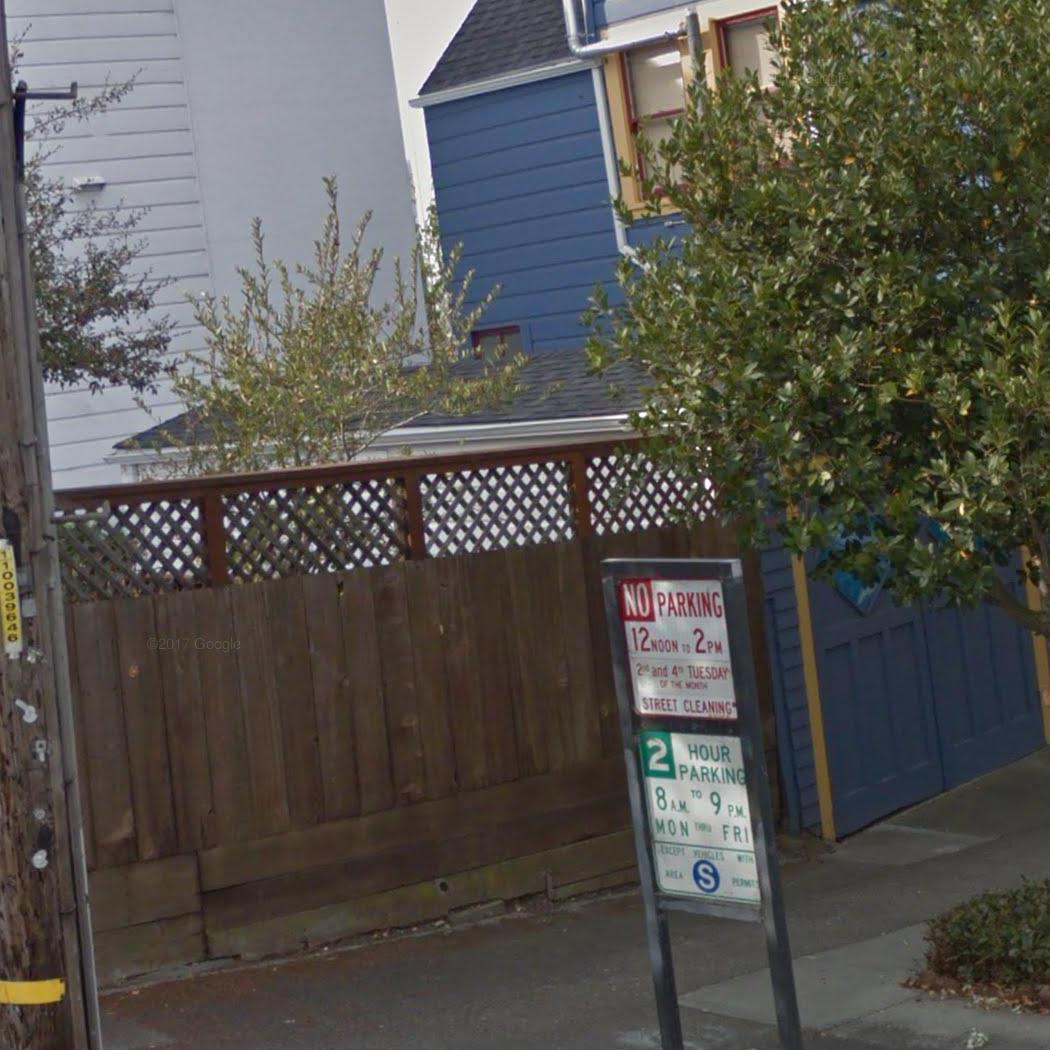2 Hour Parking: (624, 719, 770, 915)
No Parking: (605, 554, 743, 731)
